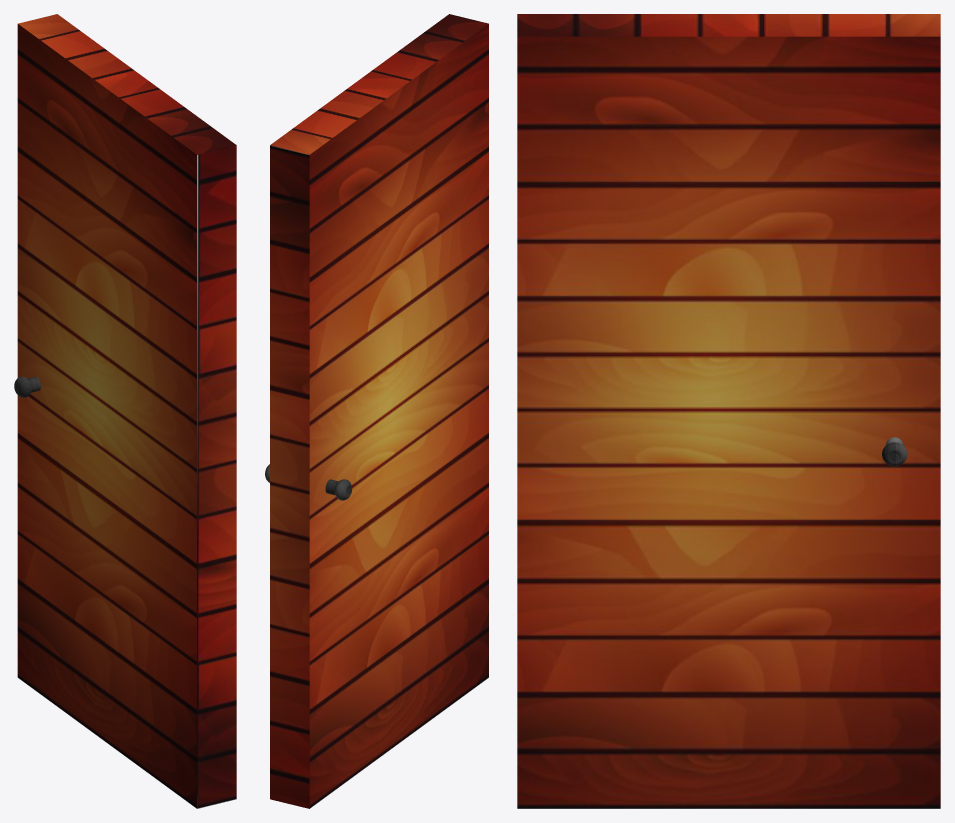
The model's file is Door_Combined.fbx.
The picture shows the model from 3 angles, left to right: view 1: azimuth 30°, elevation 25°; view 2: azimuth 150°, elevation 25°; view 3: azimuth 270°, elevation 25°; orthographic projection. The views are drawn at different scales.
Visible parts, largest first — view 1: Door; view 2: Door; view 3: Door.
Part boxes in pixels (x1,y1,x2,y2): Door: [14, 14, 236, 808]; Door: [265, 14, 488, 808]; Door: [517, 14, 940, 808].
Bounding box in the file's own units: 1.7 × 13.12 × 6.52.
